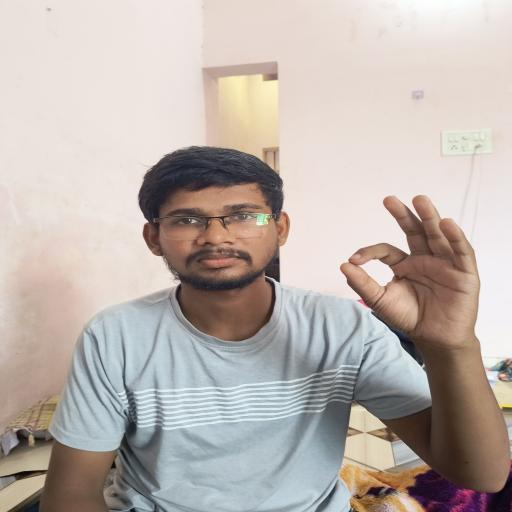Previous: (306, 175, 504, 375)
